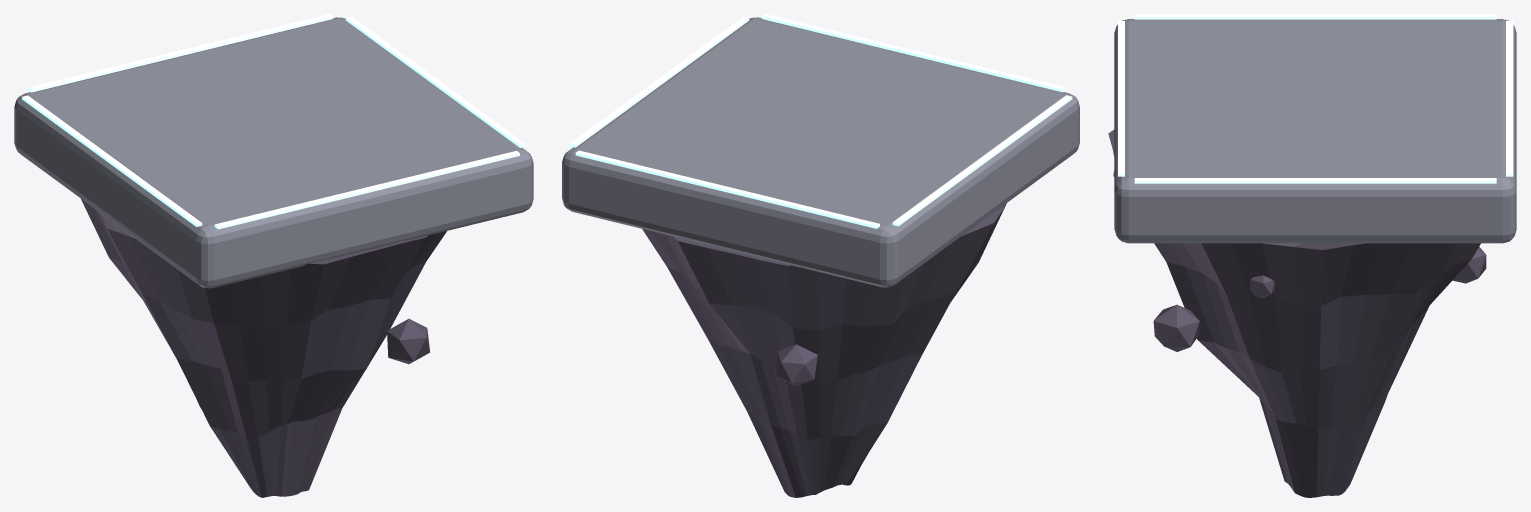
Rendered from tile_2.glb.
3 renders of one model, left to right at view 1: azimuth 30°, elevation 25°; view 2: azimuth 150°, elevation 25°; view 3: azimuth 270°, elevation 25°, orthographic. The views are drawn at different scales.
Parts seen in each view (by area): view 1: Cube; view 2: Cube; view 3: Cube.
Part boxes in pixels (box(x1,y1,x2,y2)): Cube: box(14, 14, 533, 497); Cube: box(562, 14, 1079, 497); Cube: box(1108, 14, 1516, 497).
Size of the model in its own units: 4.1 by 4.25 by 4.06.
